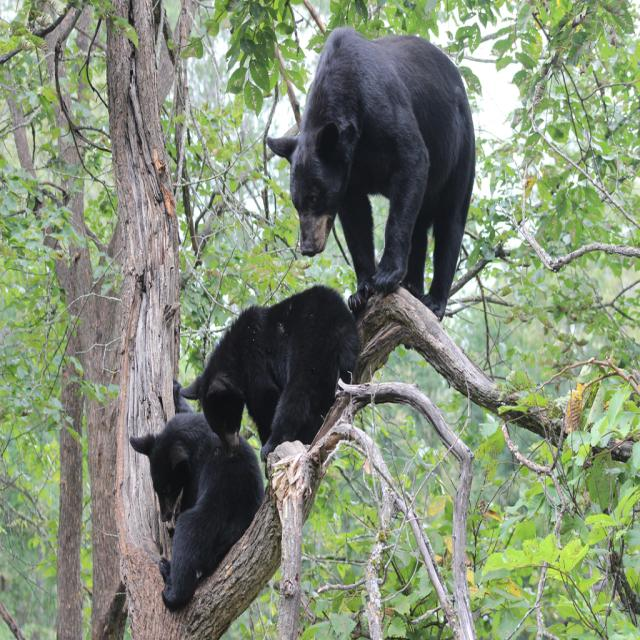Bear: (272, 23, 482, 317), (179, 284, 362, 480), (126, 411, 266, 614)
